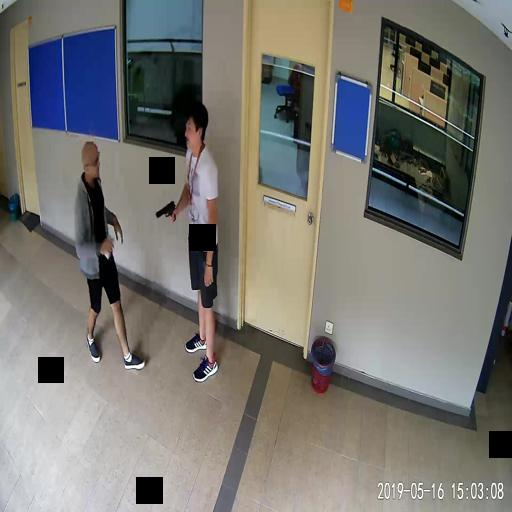Handgun: (155, 199, 175, 222)
